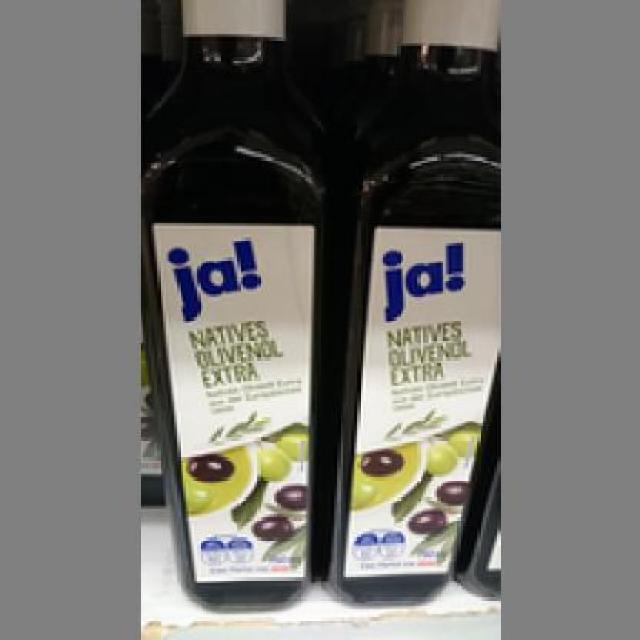Oil: (137, 0, 323, 609), (323, 0, 497, 606)
